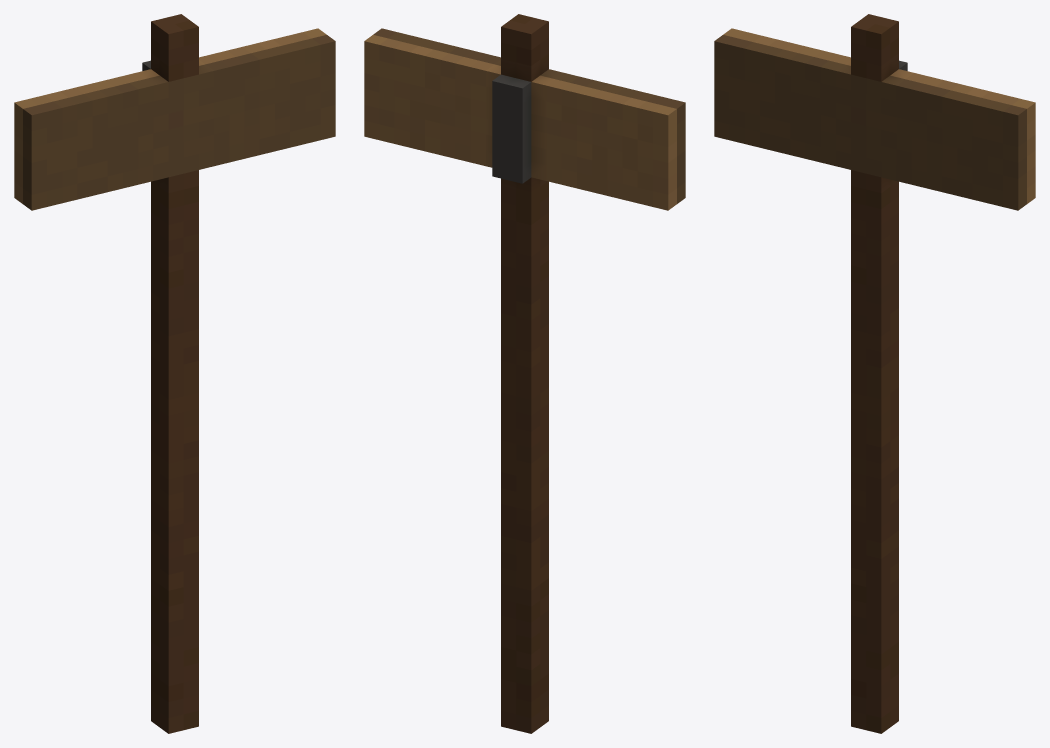
The model's file is sign_post.glb.
The picture shows the model from 3 angles, left to right: view 1: azimuth 30°, elevation 25°; view 2: azimuth 150°, elevation 25°; view 3: azimuth 330°, elevation 25°; orthographic projection.
Visible parts, largest first — view 1: sign_post; view 2: sign_post; view 3: sign_post.
Boxes of the visible parts, x1=… form: sign_post: x1=14, y1=14, x2=335, y2=733; sign_post: x1=364, y1=14, x2=685, y2=733; sign_post: x1=714, y1=14, x2=1035, y2=733.
Bounding box in the file's own units: 1 × 2.2 × 0.15.
